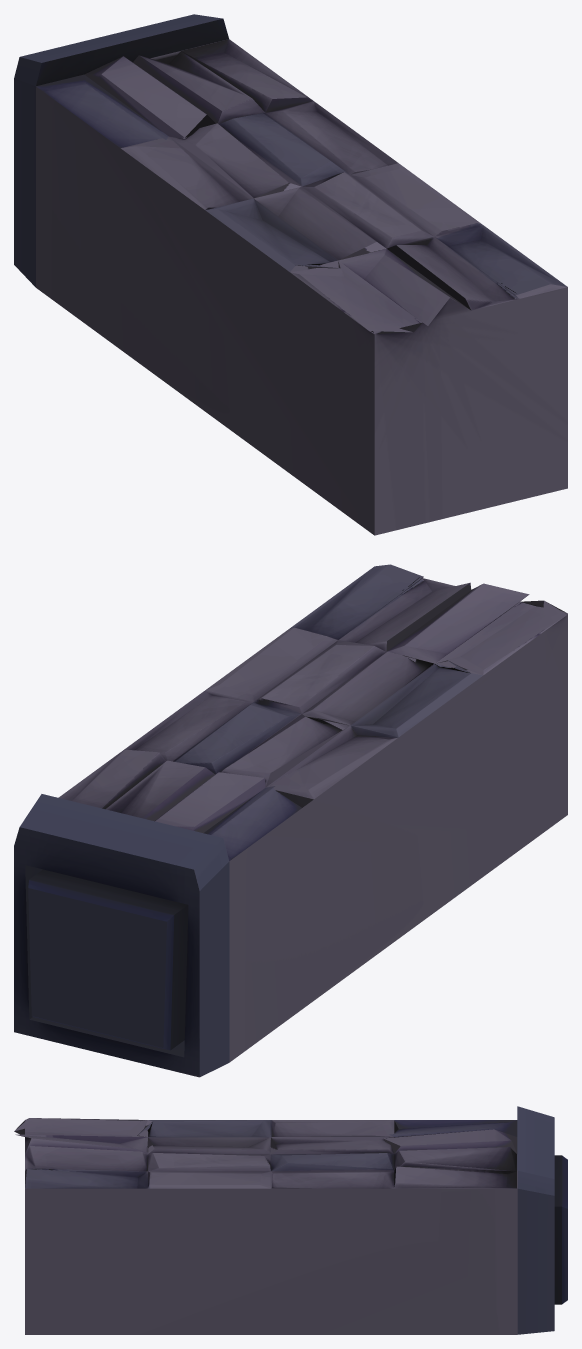
File: floor1.FBX
The picture shows the model from 3 angles, top to bottom: view 1: azimuth 30°, elevation 25°; view 2: azimuth 150°, elevation 25°; view 3: azimuth 270°, elevation 25°; orthographic projection. The views are drawn at different scales.
Visible parts, largest first — view 1: floor1; view 2: floor1; view 3: floor1.
Boxes of the visible parts, <box> form: floor1: <box>14,14,567,535</box>; floor1: <box>14,564,567,1077</box>; floor1: <box>14,1106,567,1334</box>.
Size of the model in its own units: 30.11 by 32.8 by 102.
